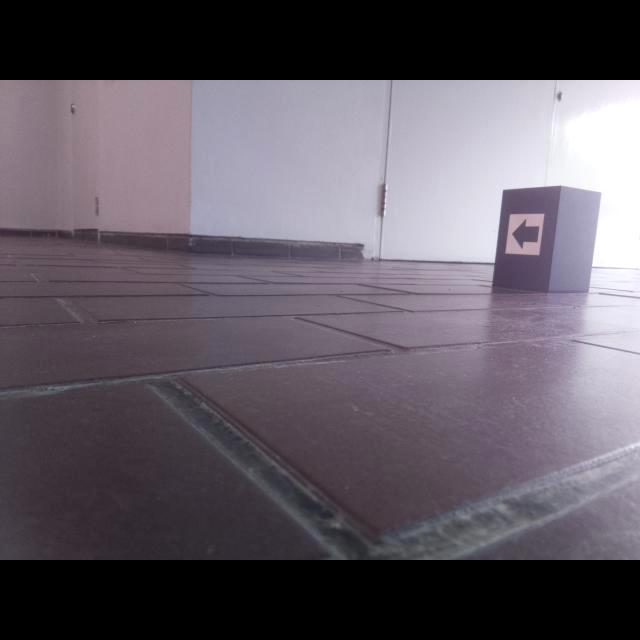LEFT: (511, 218, 540, 251)
